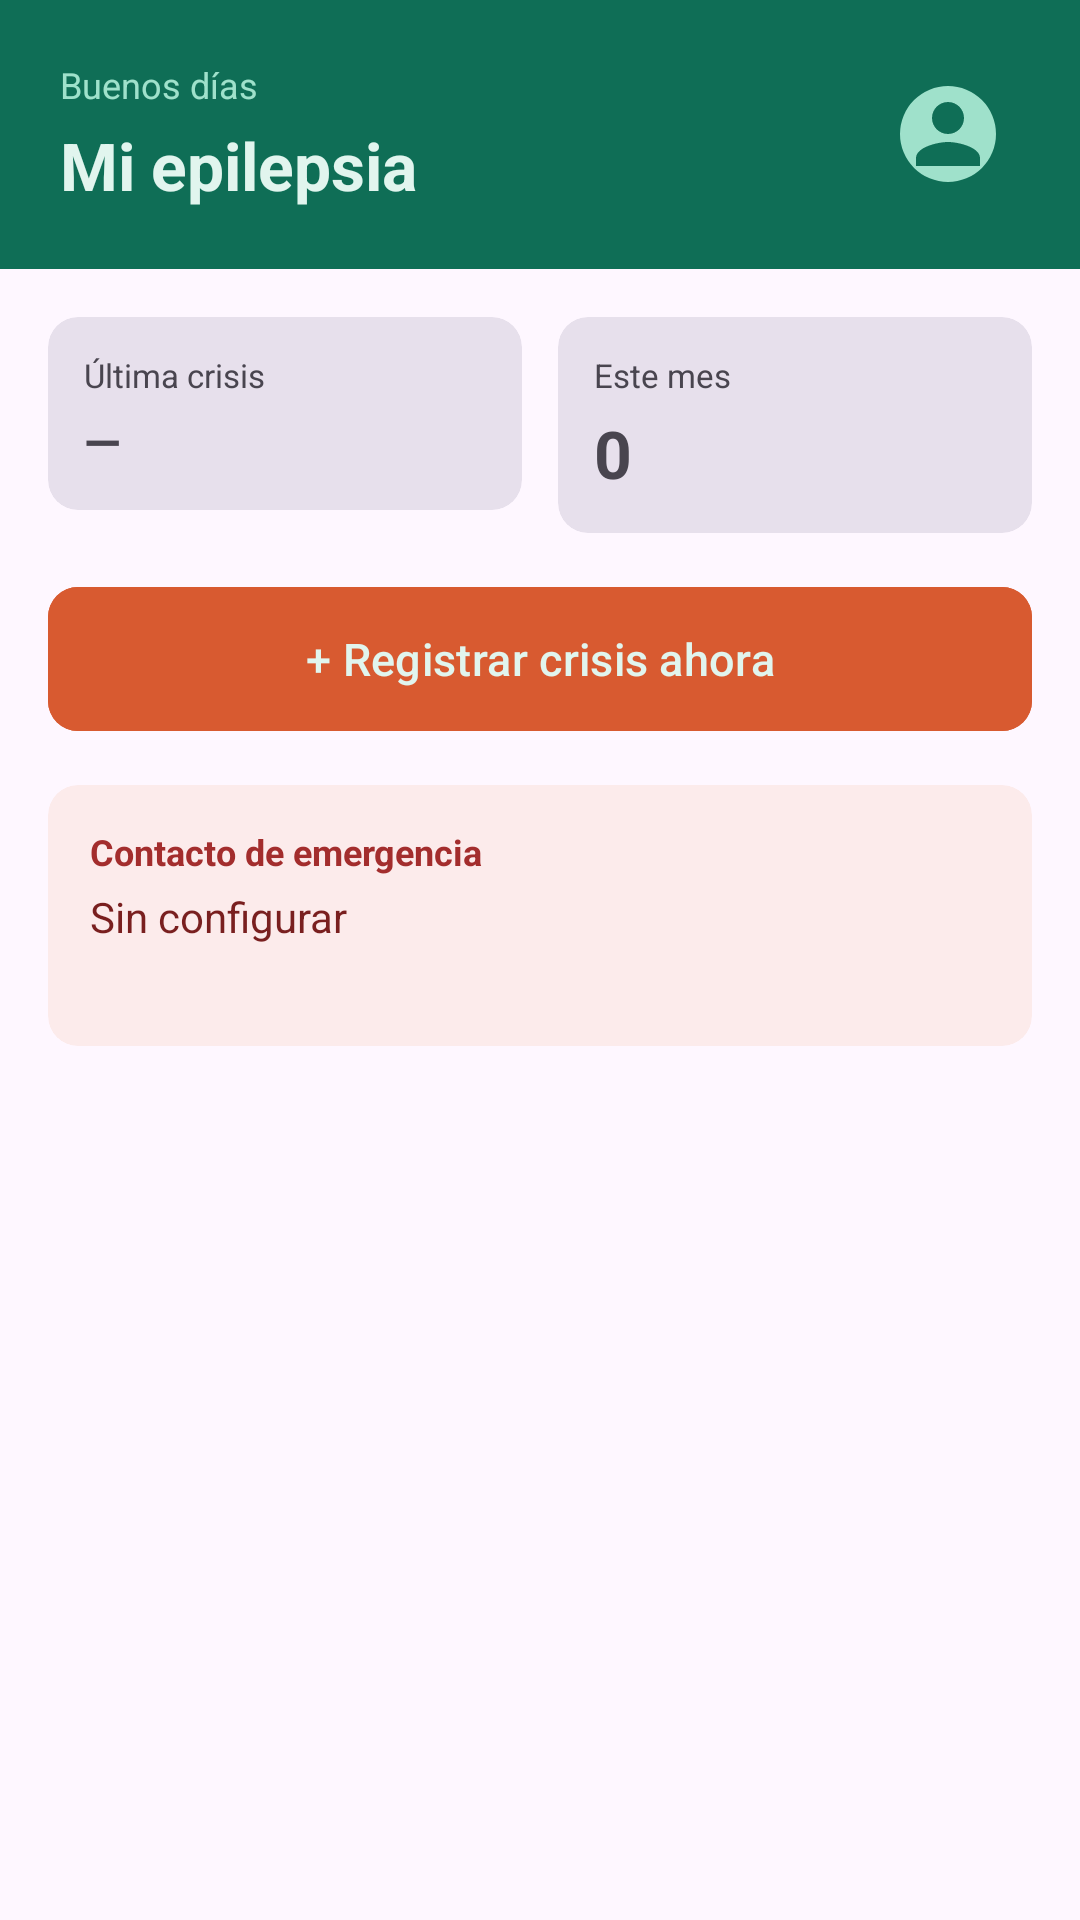

Named icons in this screenshot (1080x1920) and their bounding boxes, (x1, y1, x2, y2):
person: (900, 86, 996, 182)
